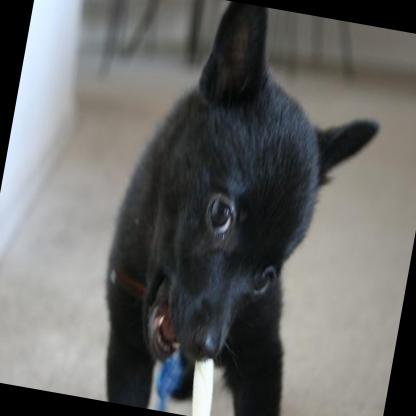schipperke: (83, 0, 393, 416)
